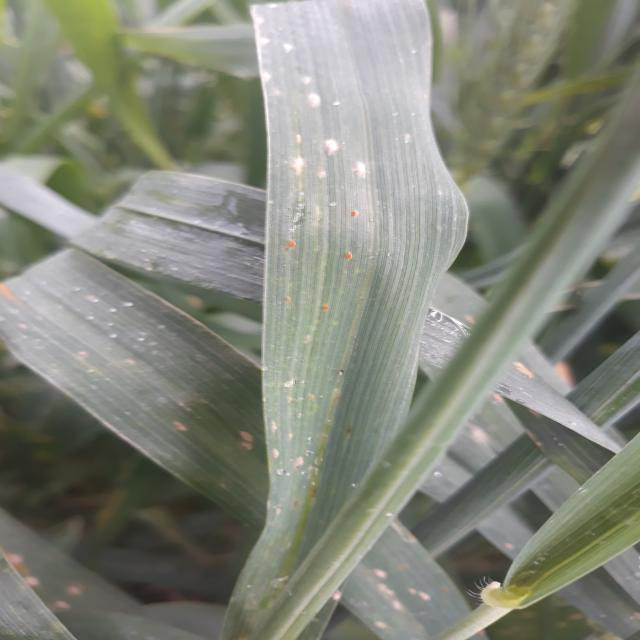orang_rust: (268, 205, 412, 320), (288, 459, 337, 530), (341, 413, 367, 444), (300, 388, 338, 408)
powder_mildew: (3, 259, 269, 468), (240, 9, 437, 190), (0, 504, 185, 640), (356, 526, 474, 640)
